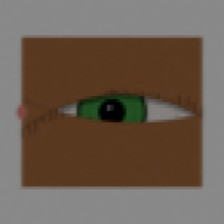pinguecula_lesion: (31, 92, 67, 120)
